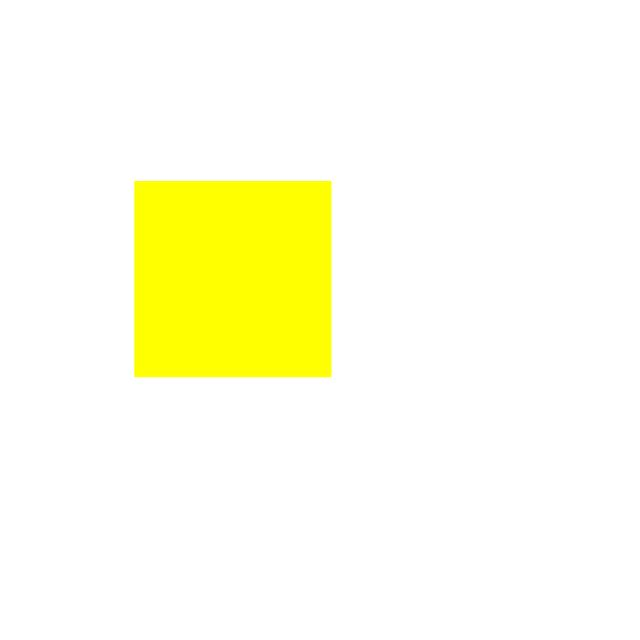square: (117, 143, 392, 420)
